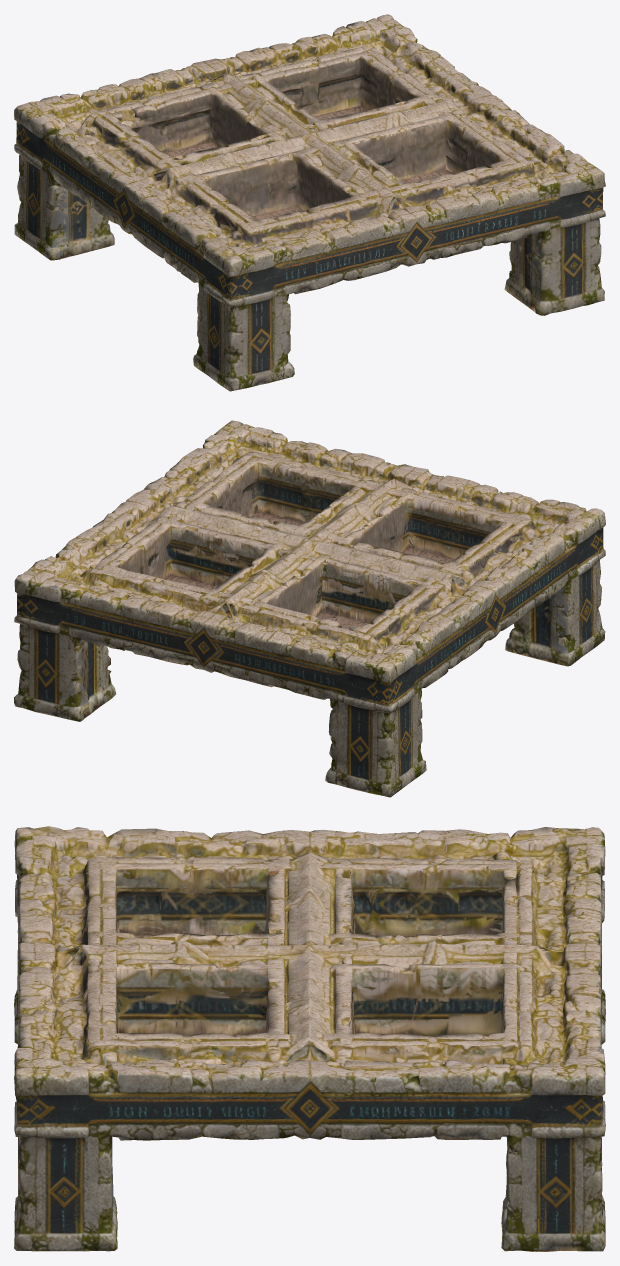
The model's file is source.glb.
3 views of the same model, one above another, from view 1: azimuth 30°, elevation 25°; view 2: azimuth 150°, elevation 25°; view 3: azimuth 270°, elevation 25° (orthographic). The views are drawn at different scales.
Visible parts, largest first — view 1: texture_mapping; view 2: texture_mapping; view 3: texture_mapping.
Part boxes in pixels (<box>): texture_mapping: <box>14,14,605,391</box>; texture_mapping: <box>14,420,605,797</box>; texture_mapping: <box>14,826,605,1251</box>.
Bounding box in the file's own units: 1 × 0.3489 × 1.
1 material, 1 textured.
